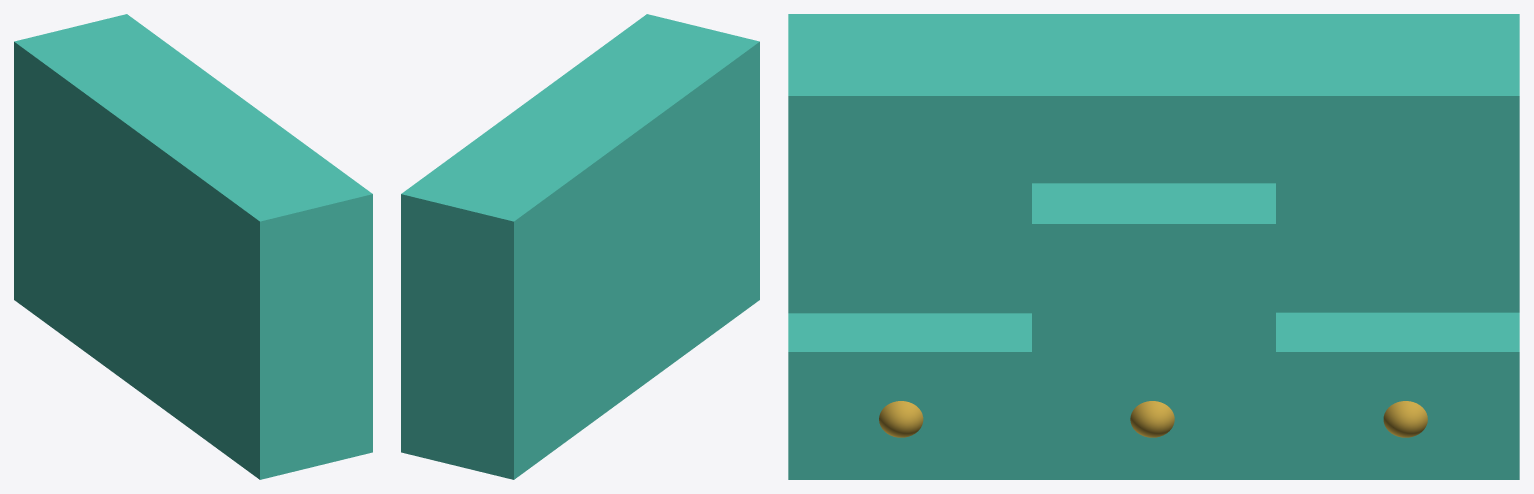
File: polica.fbx
3 renders of one model, left to right at view 1: azimuth 30°, elevation 25°; view 2: azimuth 150°, elevation 25°; view 3: azimuth 270°, elevation 25°, orthographic. The views are drawn at different scales.
Parts seen in each view (by area): view 1: Cube; view 2: Cube; view 3: Cube, Capsule_2, Capsule, Capsule_1.
Part boxes in pixels (x1,y1,x2,y2): Cube: [14, 14, 372, 479]; Cube: [401, 14, 759, 479]; Cube: [788, 14, 1519, 479]; Capsule_2: [1383, 401, 1427, 437]; Capsule: [879, 401, 923, 437]; Capsule_1: [1130, 401, 1174, 437].
Size of the model in its own units: 98.93 by 200 by 345.
